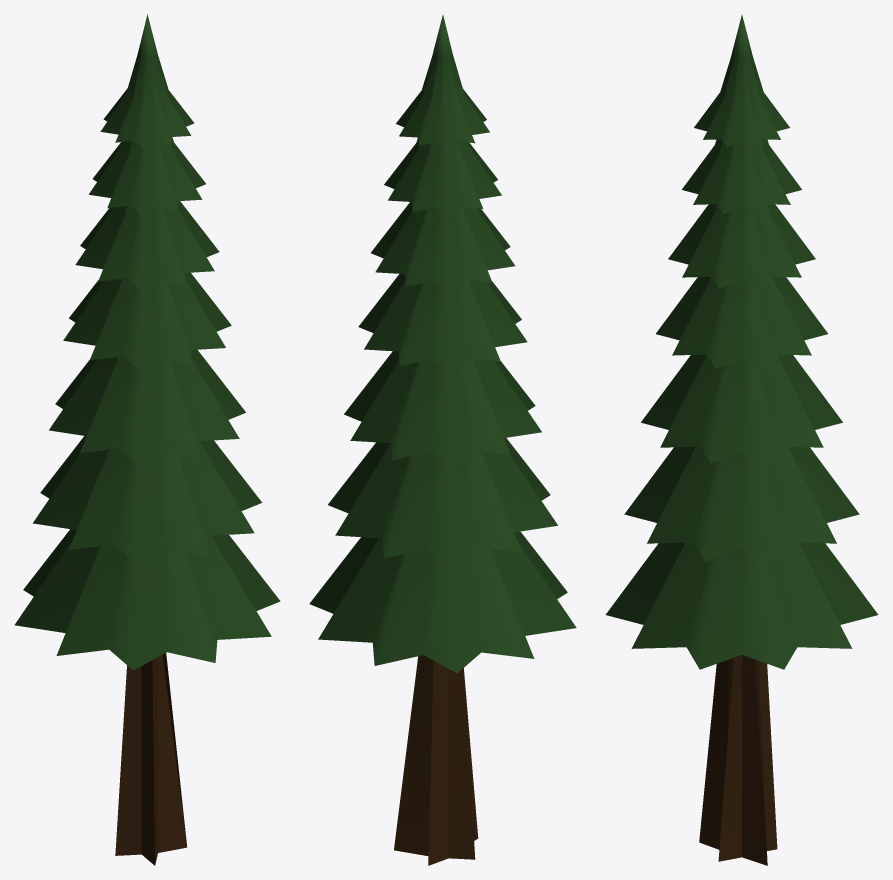
The picture shows the model from 3 angles, left to right: view 1: azimuth 30°, elevation 25°; view 2: azimuth 150°, elevation 25°; view 3: azimuth 270°, elevation 25°; orthographic projection.
Parts seen in each view (by area): view 1: arvore3; view 2: arvore3; view 3: arvore3.
Part boxes in pixels (bbox=[...]): arvore3: bbox=[14, 14, 280, 865]; arvore3: bbox=[309, 15, 576, 865]; arvore3: bbox=[605, 15, 878, 865].
Bounding box in the file's own units: 3.02 × 10.75 × 3.18.
